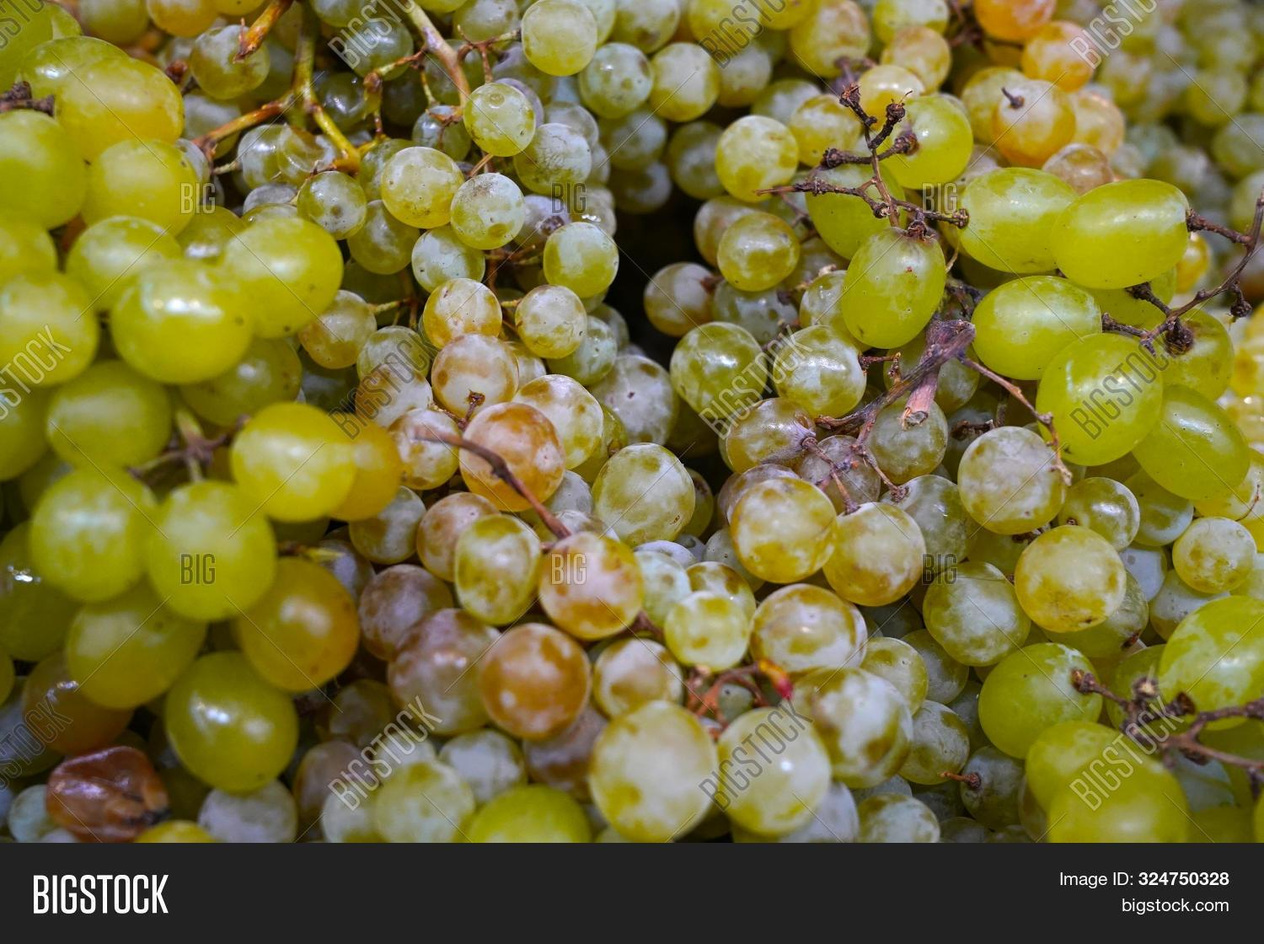Grape Rotten: (2, 0, 1260, 844)
